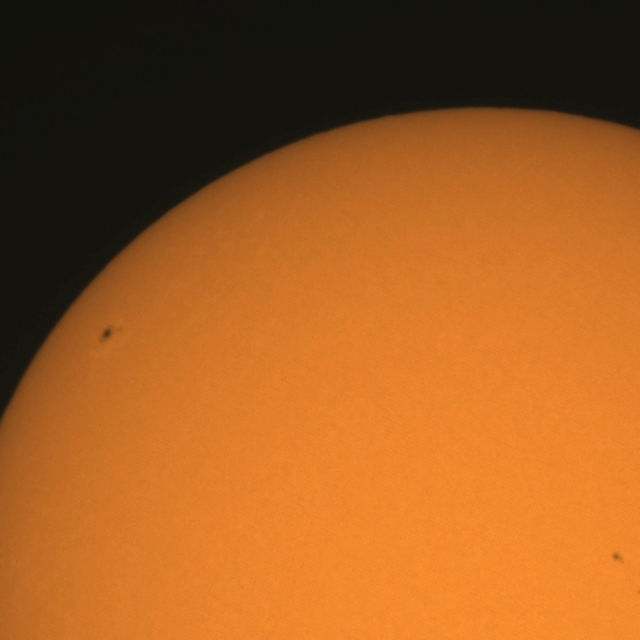sunspot: (98, 323, 124, 346), (610, 550, 625, 566)
